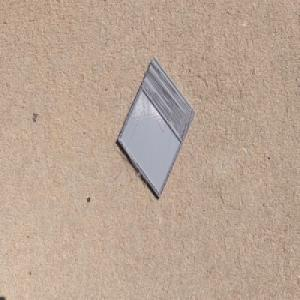PlasticPart: (116, 56, 196, 199)
